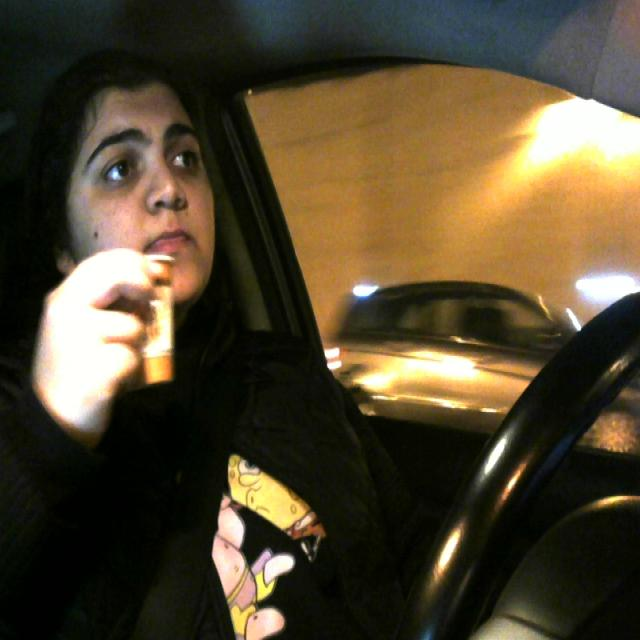drinking: (102, 244, 181, 396)
